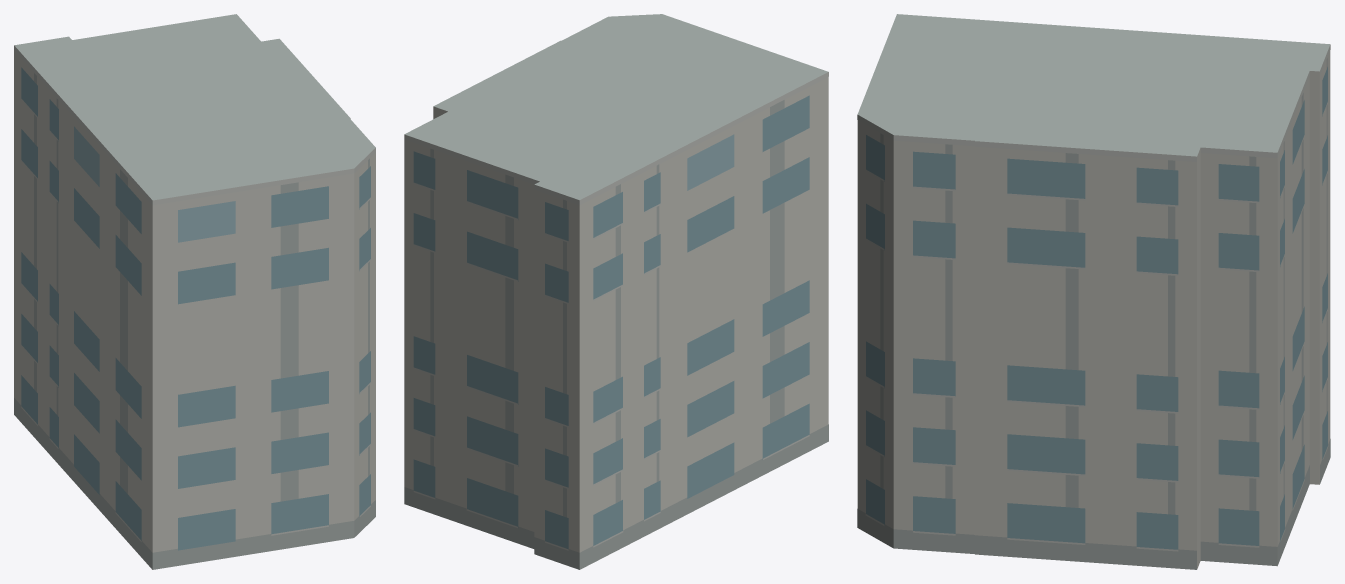
Rendered from survey-upis-32999924.glb.
The picture shows the model from 3 angles, left to right: view 1: azimuth 30°, elevation 25°; view 2: azimuth 150°, elevation 25°; view 3: azimuth 270°, elevation 25°; orthographic projection. The views are drawn at different scales.
Visible parts, largest first — view 1: survey-upis-32999924.tmp; view 2: survey-upis-32999924.tmp; view 3: survey-upis-32999924.tmp.
Part boxes in pixels (box(x1,y1,x2,y2)): survey-upis-32999924.tmp: box(14, 14, 375, 569); survey-upis-32999924.tmp: box(404, 14, 828, 569); survey-upis-32999924.tmp: box(857, 14, 1330, 569).
Bounding box in the file's own units: 13.32 × 18 × 18.68.
